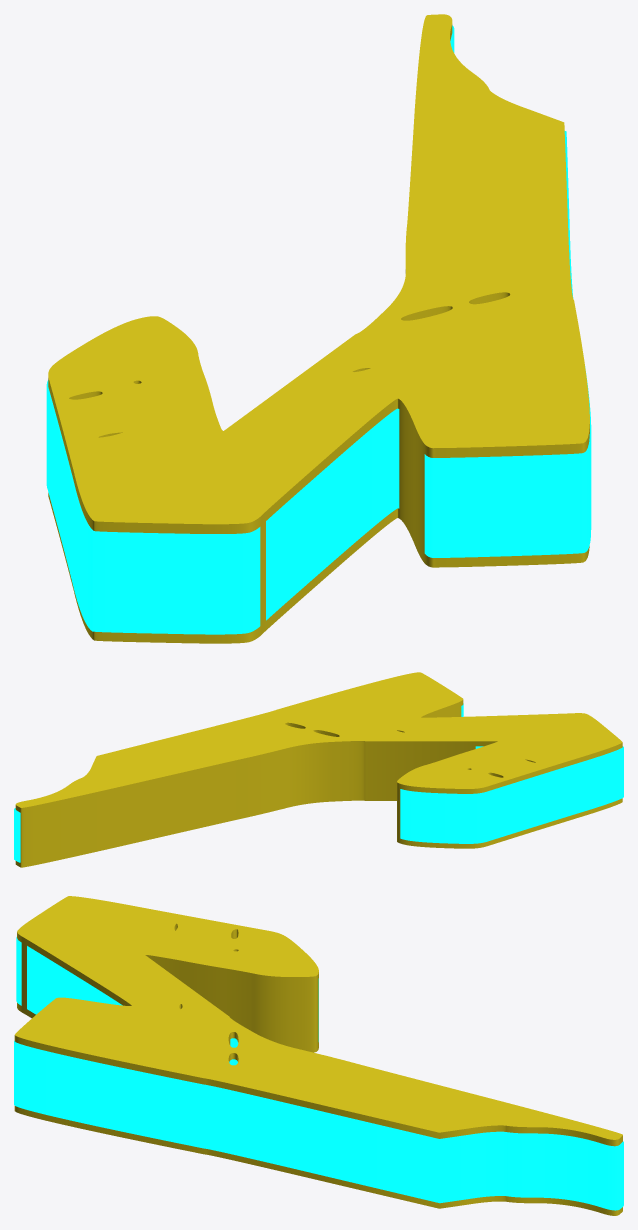
File: LetterU.glb
The picture shows the model from 3 angles, top to bottom: view 1: azimuth 30°, elevation 25°; view 2: azimuth 150°, elevation 25°; view 3: azimuth 270°, elevation 25°; orthographic projection. The views are drawn at different scales.
Visible parts, largest first — view 1: Text, Text.001; view 2: Text, Text.001; view 3: Text, Text.001.
Boxes of the visible parts, left/top/right/bottom form: Text: left=48, top=14, right=589, bottom=643; Text.001: left=46, top=25, right=591, bottom=634; Text: left=15, top=672, right=622, bottom=867; Text.001: left=14, top=703, right=623, bottom=862; Text: left=14, top=896, right=622, bottom=1215; Text.001: left=14, top=937, right=623, bottom=1210.
Bounding box in the file's own units: 0.6021 × 0.087 × 0.6326.
